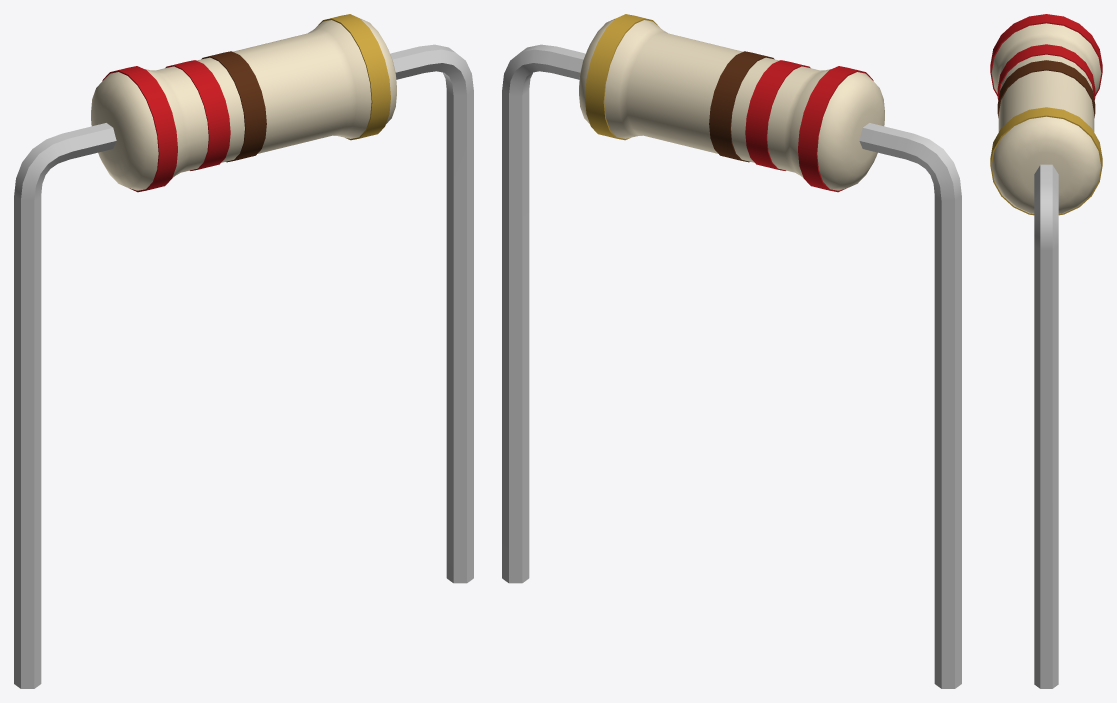
Rendered from resistor.glb.
3 views of the same model, side by side, from view 1: azimuth 30°, elevation 25°; view 2: azimuth 150°, elevation 25°; view 3: azimuth 270°, elevation 25° (orthographic). The views are drawn at different scales.
Parts seen in each view (by area): view 1: Resistor_Body, Lead_a, Lead_b, Band_1_Red, Band_4_Gold, Band_2_Red, Band_3_Brown; view 2: Resistor_Body, Lead_a, Lead_b, Band_1_Red, Band_4_Gold, Band_2_Red, Band_3_Brown; view 3: Resistor_Body, Lead_b, Band_4_Gold, Band_1_Red, Band_3_Brown, Band_2_Red.
Part boxes in pixels (x1,y1,x2,y2): Resistor_Body: [91, 18, 396, 190]; Lead_a: [14, 123, 116, 688]; Lead_b: [390, 44, 473, 583]; Band_1_Red: [102, 66, 177, 192]; Band_4_Gold: [317, 14, 390, 140]; Band_2_Red: [165, 60, 230, 170]; Band_3_Brown: [201, 51, 266, 162]; Resistor_Body: [579, 18, 884, 190]; Lead_a: [859, 123, 961, 688]; Lead_b: [502, 44, 585, 583]; Band_1_Red: [798, 66, 873, 192]; Band_4_Gold: [585, 14, 658, 140]; Band_2_Red: [745, 60, 810, 170]; Band_3_Brown: [709, 51, 774, 162]; Resistor_Body: [991, 23, 1101, 213]; Lead_b: [1034, 164, 1058, 688]; Band_4_Gold: [990, 107, 1102, 215]; Band_1_Red: [990, 14, 1102, 95]; Band_3_Brown: [997, 60, 1095, 117]; Band_2_Red: [997, 44, 1095, 99].
Bounding box in the file's own units: 0.0106 × 0.0131 × 0.00254.
